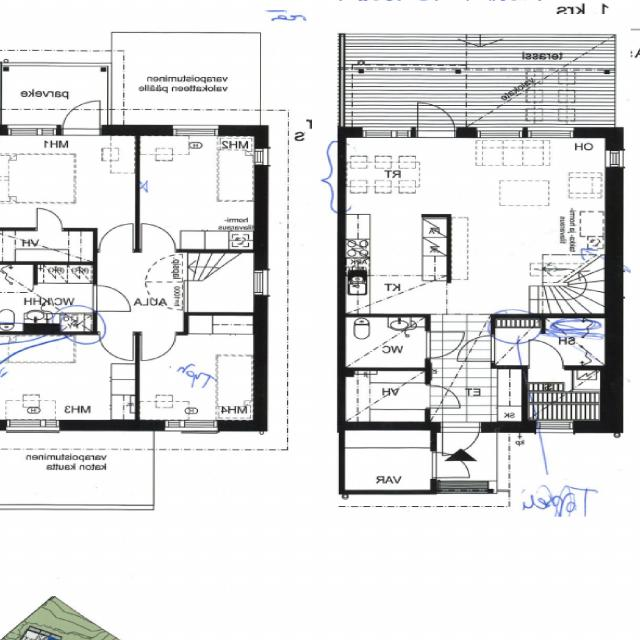door: (443, 421, 480, 461), (418, 99, 455, 138), (63, 98, 100, 136), (430, 452, 470, 478), (529, 340, 563, 370), (142, 223, 176, 253), (426, 332, 464, 358), (142, 332, 176, 361), (100, 332, 134, 360), (100, 224, 134, 252), (92, 286, 130, 311), (459, 336, 495, 360), (426, 385, 462, 408), (38, 209, 62, 231)
